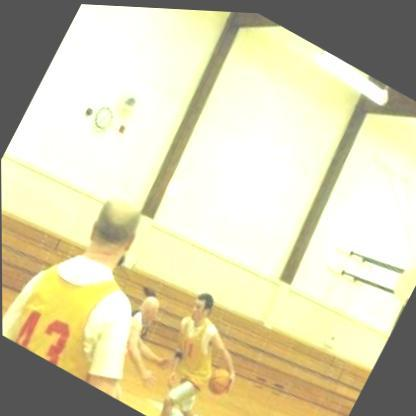basketball: (196, 355, 239, 400)
